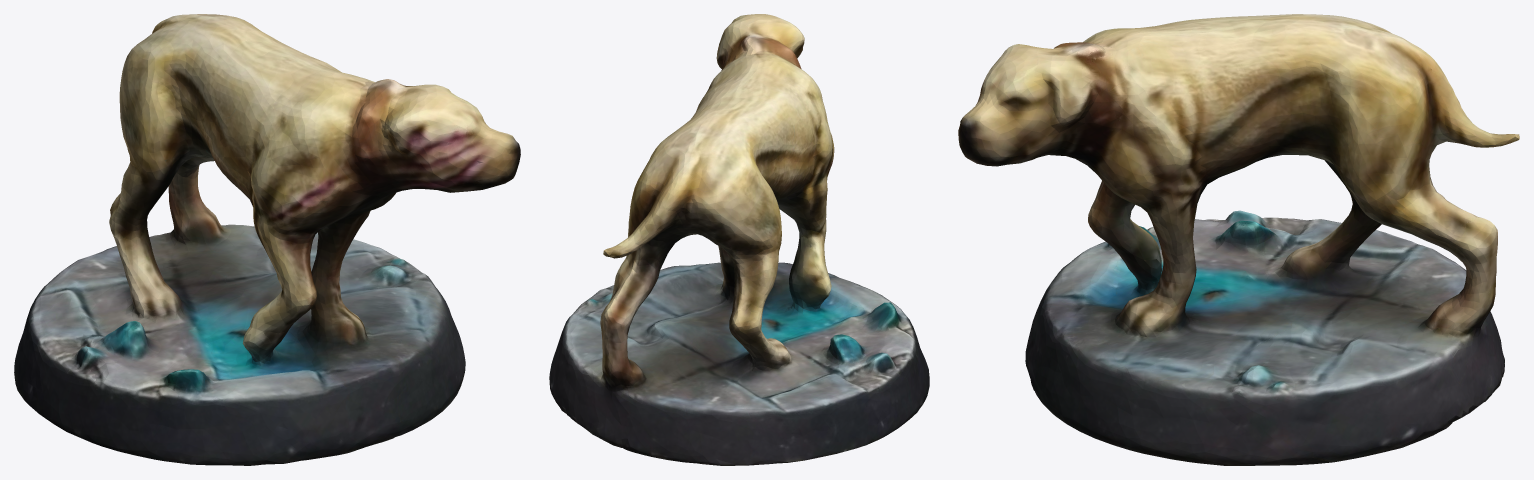
File: underworlds.hexbane.ratspike.glb
3 views of the same model, side by side, from view 1: azimuth 30°, elevation 25°; view 2: azimuth 150°, elevation 25°; view 3: azimuth 270°, elevation 25° (orthographic). The views are drawn at different scales.
Bounding box in the file's own units: 0.2697 × 0.2209 × 0.3153.
1 material, 1 textured.
